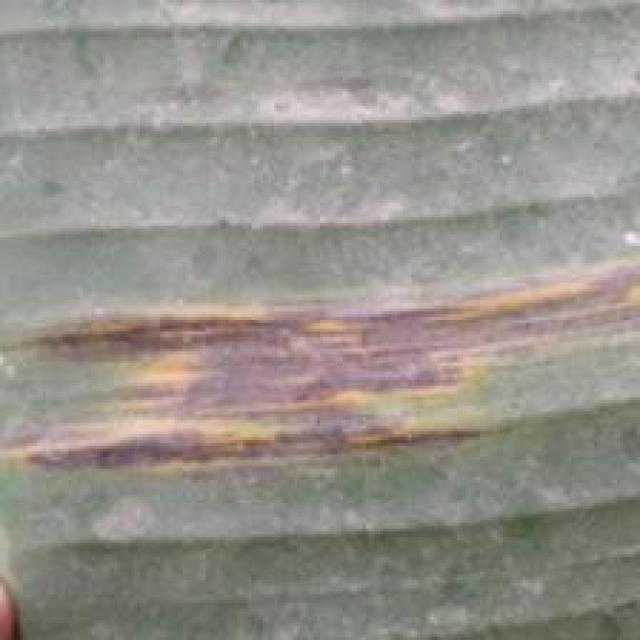Early_leaf_spot: (0, 275, 640, 487)
